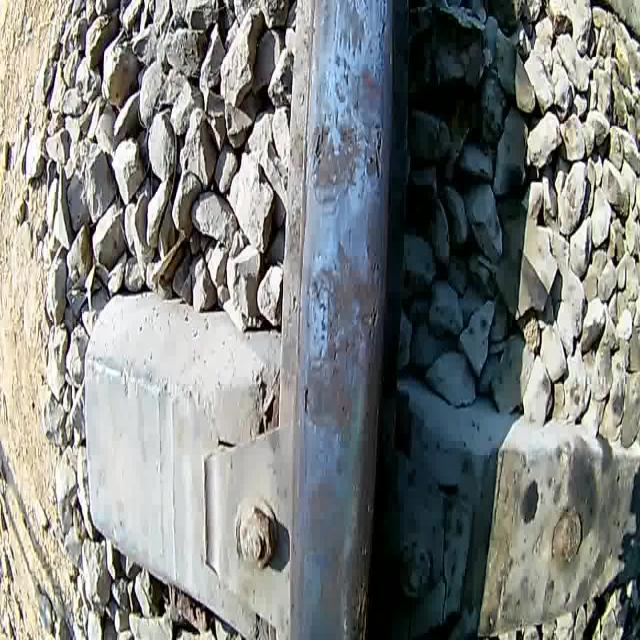Cracks: (351, 568, 370, 640), (309, 272, 329, 338), (374, 0, 394, 47)
Spallings: (362, 113, 386, 188), (309, 117, 328, 175), (366, 290, 381, 348), (302, 381, 312, 423)
Squats: (302, 235, 385, 448), (306, 54, 387, 218), (334, 0, 368, 60)
